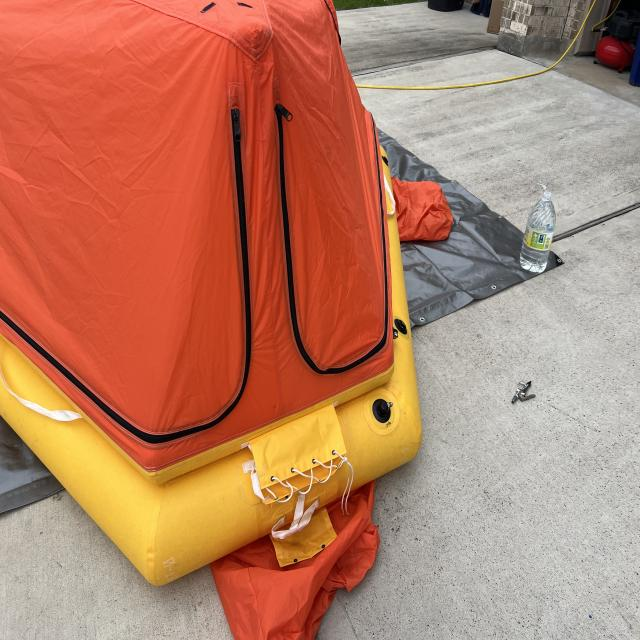Multi-person_life_raft: (0, 1, 454, 639)
